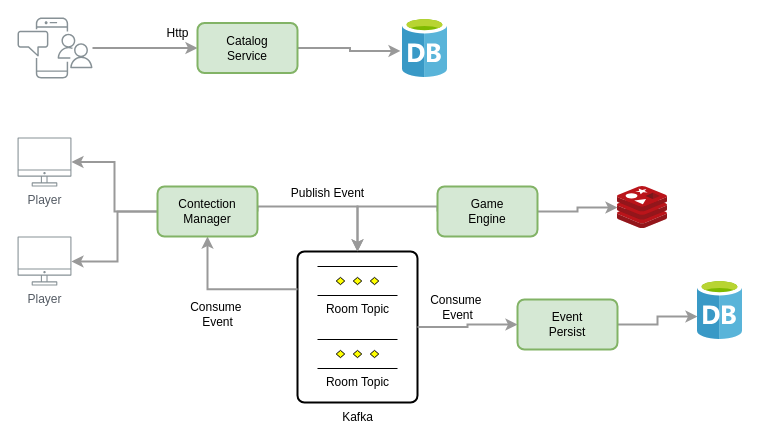
The diagram is 759 pixels wide and 444 high, and some of its shapes have lost their labels. The shapes that lost their labels are listed below. From the top down, each one's centre as x and y in pixels, then its label:
(54,47): User
(424,47): Mysql
(642,207): Redis
(719,309): Mongo
